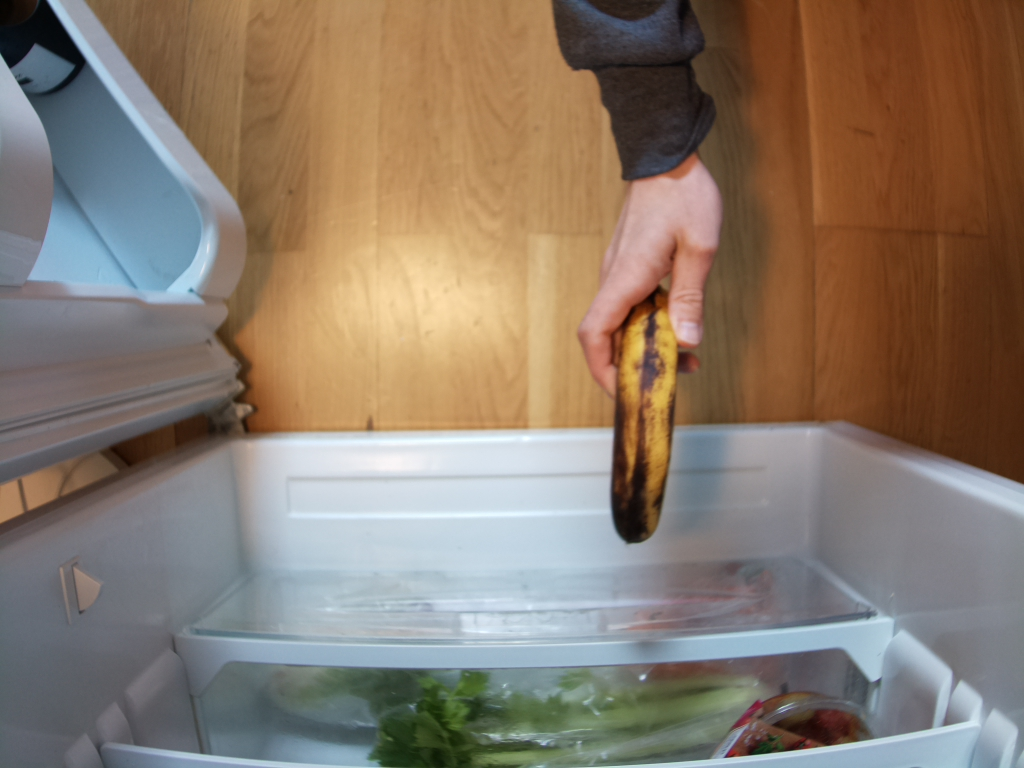banana-overripe: (608, 282, 682, 547)
